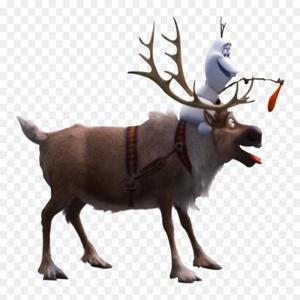sven: (17, 100, 269, 286)
